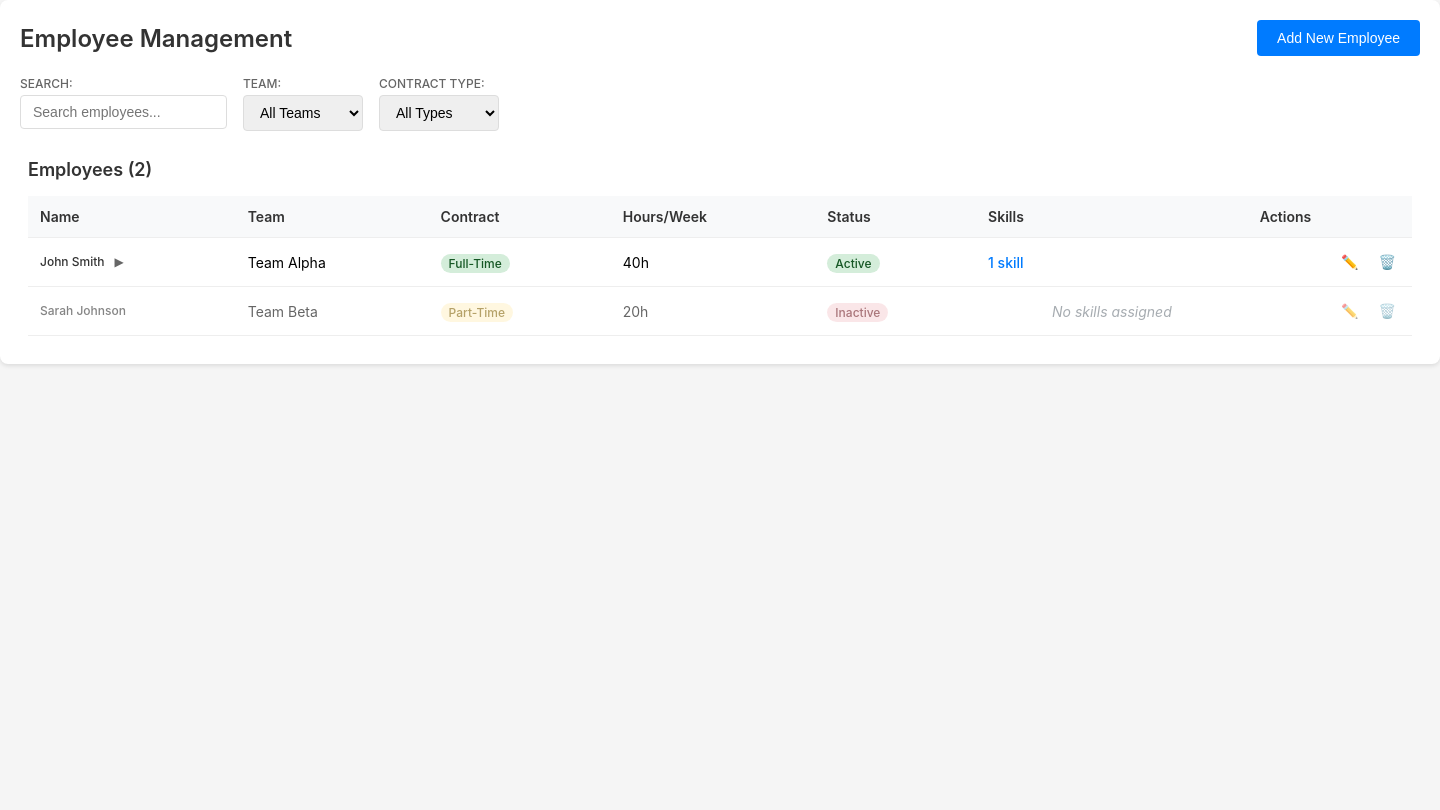
Test: EmployeeManagement › expands employee skills when clicked
Click the button "▶".
click(119, 262)  # box [112,253,126,271]
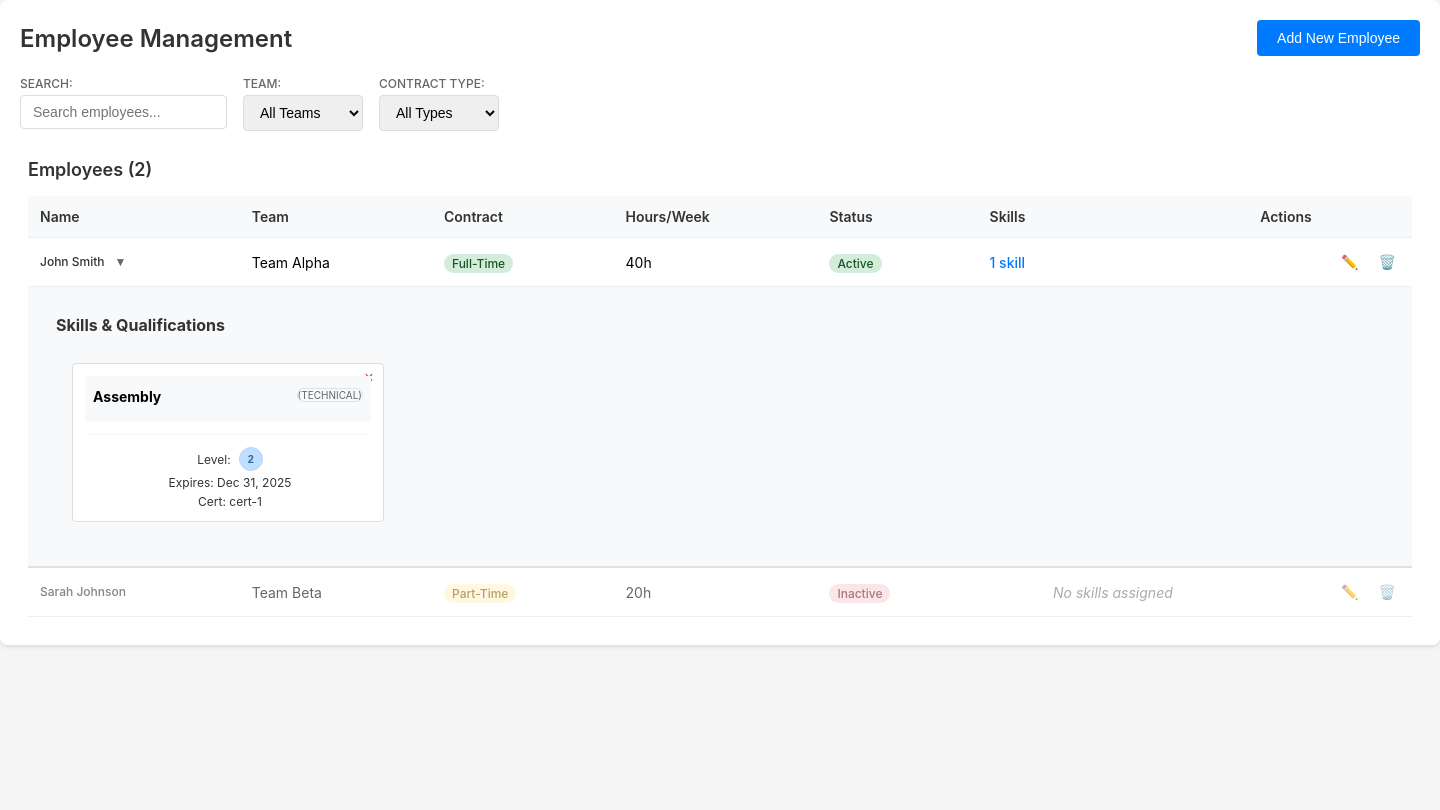
expect the heading "Skills & Qualifications" is shown: met, box [56,315,225,335]
expect the text "Assembly" is shown: met, box [93,388,161,405]
